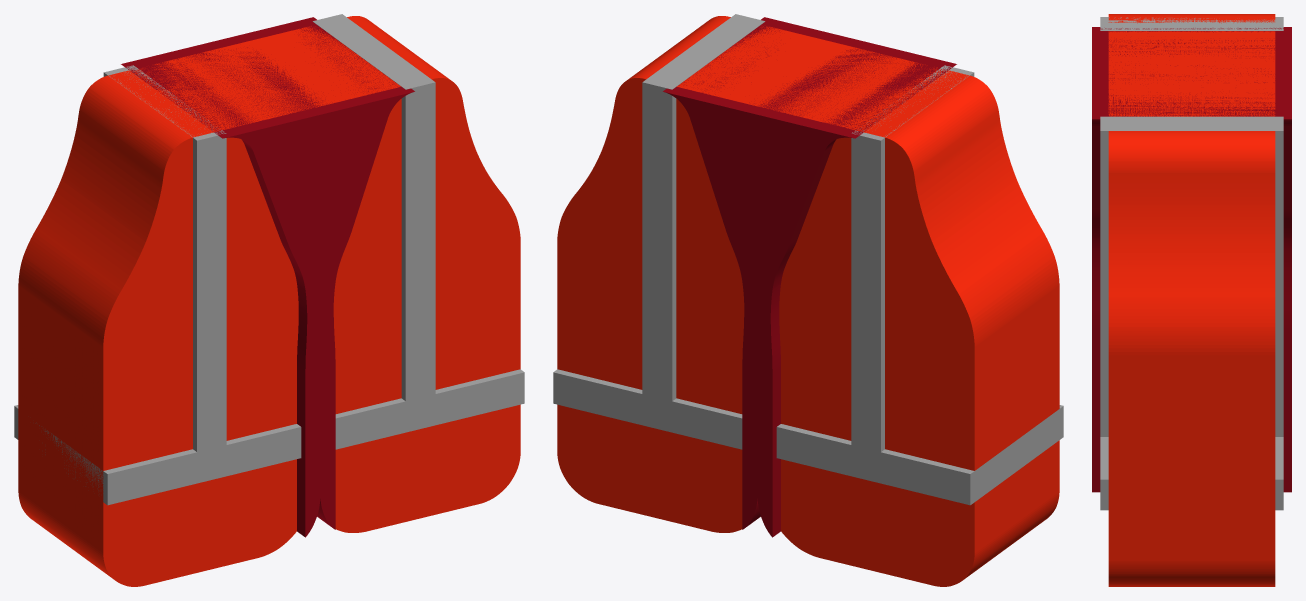
The picture shows the model from 3 angles, left to right: view 1: azimuth 30°, elevation 25°; view 2: azimuth 150°, elevation 25°; view 3: azimuth 270°, elevation 25°; orthographic projection.
Parts seen in each view (by area): view 1: U+1F9BA_layer00_obj00, U+1F9BA_layer01_obj00, U+1F9BA_layer02_obj00; view 2: U+1F9BA_layer00_obj00, U+1F9BA_layer01_obj00, U+1F9BA_layer02_obj00; view 3: U+1F9BA_layer00_obj00, U+1F9BA_layer02_obj00, U+1F9BA_layer01_obj00.
Boxes of the visible parts, x1,y1,x2,y2 form: U+1F9BA_layer00_obj00: (18, 16, 520, 586); U+1F9BA_layer01_obj00: (14, 14, 524, 505); U+1F9BA_layer02_obj00: (121, 17, 414, 537); U+1F9BA_layer00_obj00: (557, 16, 1059, 586); U+1F9BA_layer01_obj00: (553, 14, 1063, 505); U+1F9BA_layer02_obj00: (663, 17, 956, 537); U+1F9BA_layer00_obj00: (1108, 14, 1275, 586); U+1F9BA_layer02_obj00: (1092, 27, 1291, 492); U+1F9BA_layer01_obj00: (1100, 17, 1283, 510).
Size of the model in its own units: 0.5681 by 0.5677 by 0.24.
